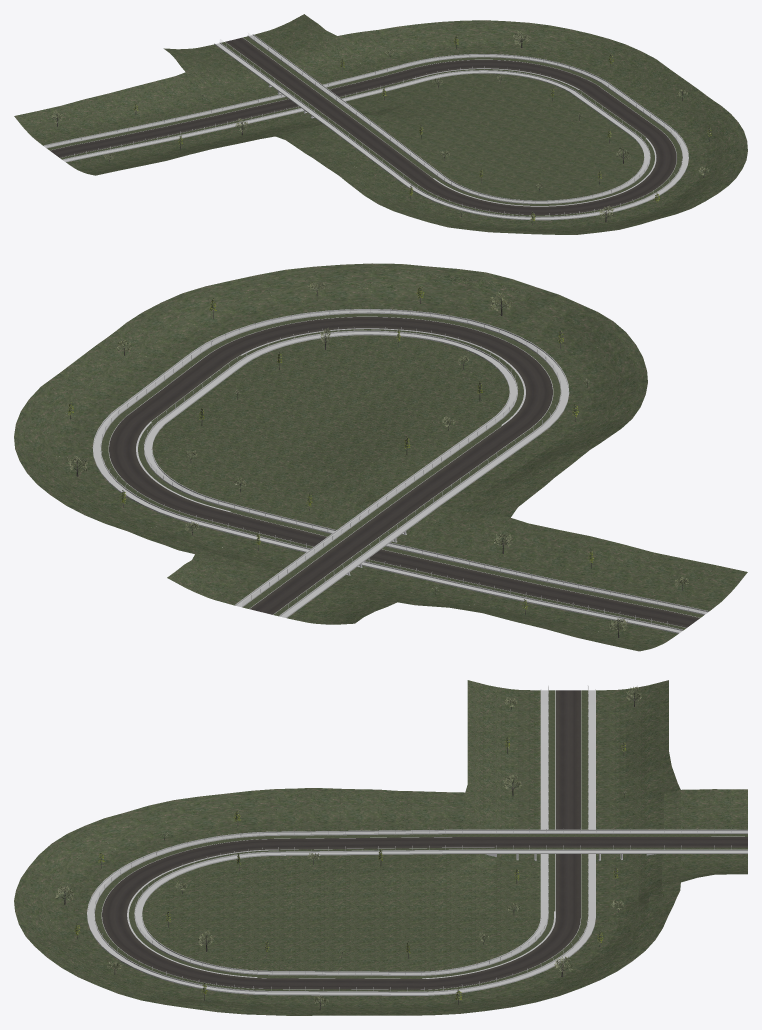
3 views of the same model, one above another, from view 1: azimuth 30°, elevation 25°; view 2: azimuth 150°, elevation 25°; view 3: azimuth 270°, elevation 25° (orthographic). The views are drawn at different scales.
Parts seen in each view (by area): view 1: Grass, Road, Track, Trees_Tree-B-04.002; view 2: Grass, Road, Track, Trees_Tree-B-04.002; view 3: Grass, Road, Track, Trees_Tree-B-04.002.
Boxes of the visible parts, x1,y1,x2,y2 form: Grass: (14,14,747,234); Road: (50,37,676,215); Track: (43,34,688,220); Trees_Tree-B-04.002: (51,30,711,225); Grass: (14,263,747,651); Road: (109,317,699,627); Track: (92,308,708,633); Trees_Tree-B-04.002: (68,282,688,637); Grass: (14,680,747,1015); Road: (102,690,747,989); Track: (87,686,747,995); Trees_Tree-B-04.002: (55,686,641,1010).
Size of what is drawn, in the model's own units: 542 by 24.15 by 511.
